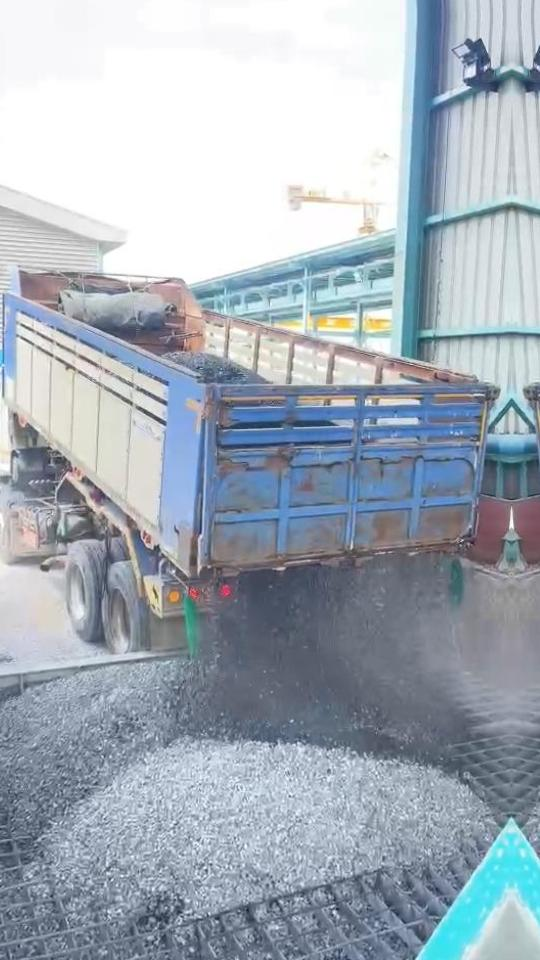gravel: (0, 659, 496, 919), (203, 555, 464, 761), (164, 352, 268, 382)
